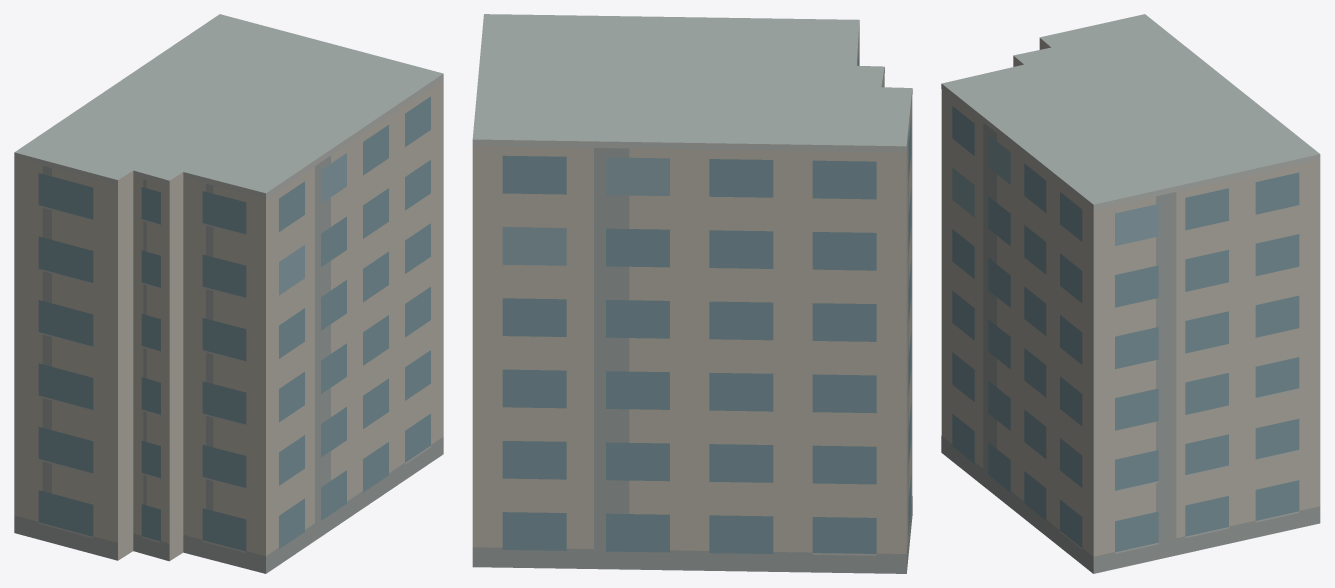
Rendered from survey-upis-32967392.glb.
The picture shows the model from 3 angles, left to right: view 1: azimuth 30°, elevation 25°; view 2: azimuth 150°, elevation 25°; view 3: azimuth 270°, elevation 25°; orthographic projection. The views are drawn at different scales.
Visible parts, largest first — view 1: survey-upis-32967392.tmp; view 2: survey-upis-32967392.tmp; view 3: survey-upis-32967392.tmp.
Part boxes in pixels (bbox=[...]): survey-upis-32967392.tmp: bbox=[14, 14, 443, 573]; survey-upis-32967392.tmp: bbox=[472, 14, 912, 573]; survey-upis-32967392.tmp: bbox=[941, 14, 1320, 573].
Size of the model in its own units: 17.73 by 16 by 14.89.
